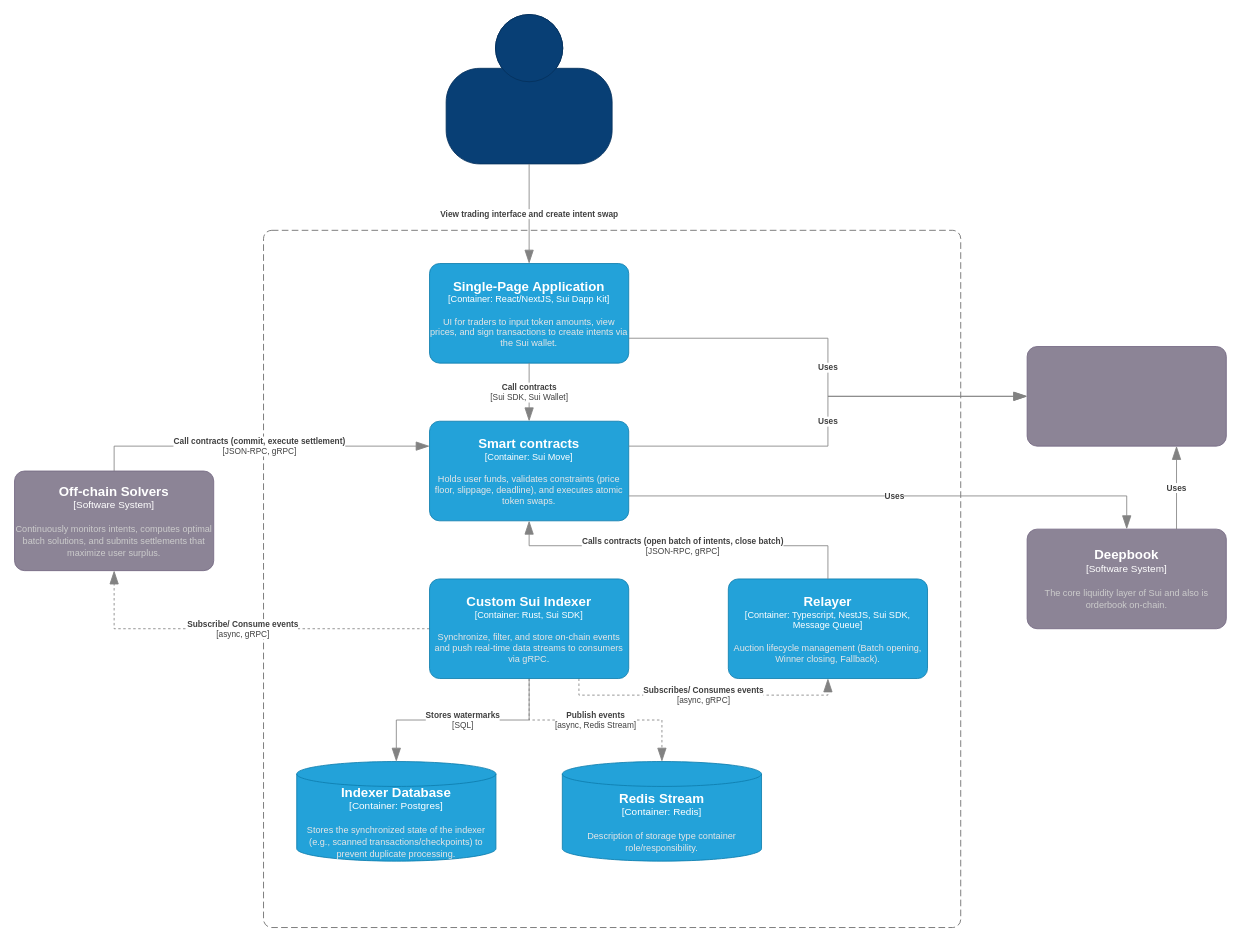
Image size: 1241x942. Some labels were removed from this diagram. Here are the shapes that lost their labels. From the top down, the box of each, then its label:
(445, 14, 612, 164): Trader [Person] User wants to swap token with best price.
(1026, 346, 1226, 446): Sui Network [Software System] Blockchain infrastructure.
(263, 229, 961, 928): CoW DEX System [Software System]
